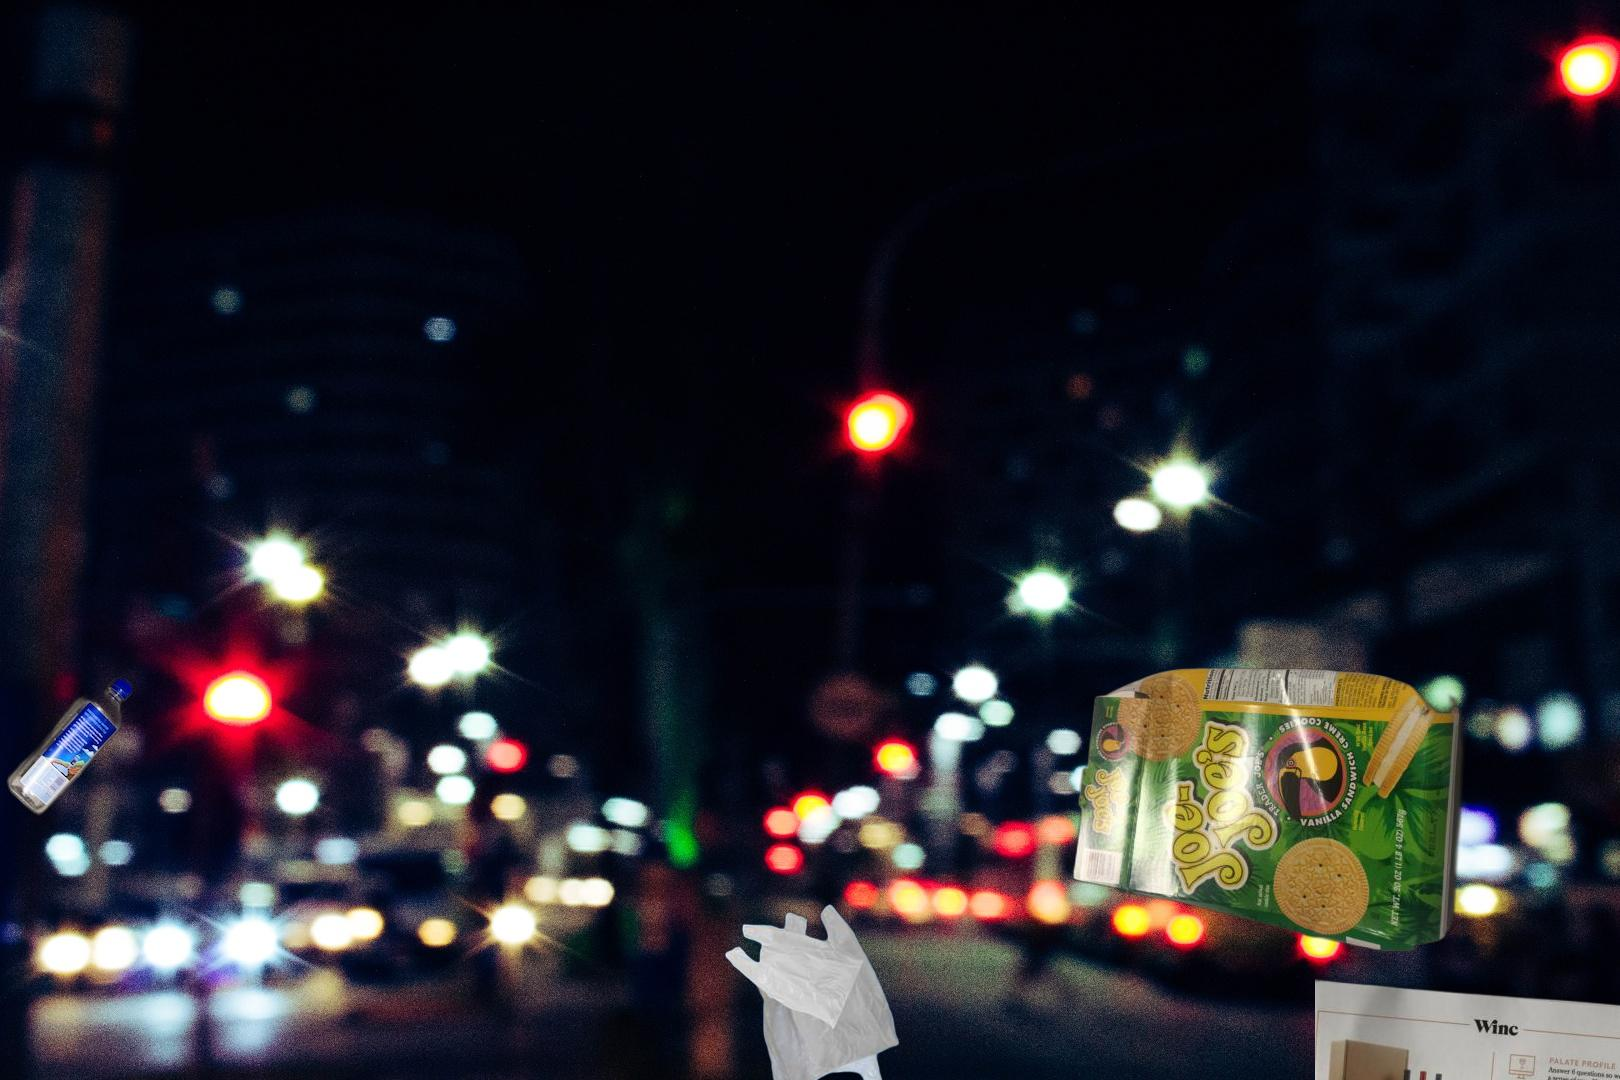paper: (1068, 665, 1471, 955), (1315, 974, 1620, 1080)
plastic-bag: (722, 902, 902, 1080)
plastic-bottles: (2, 673, 137, 820)
trash: (1385, 1037, 1514, 1080)
